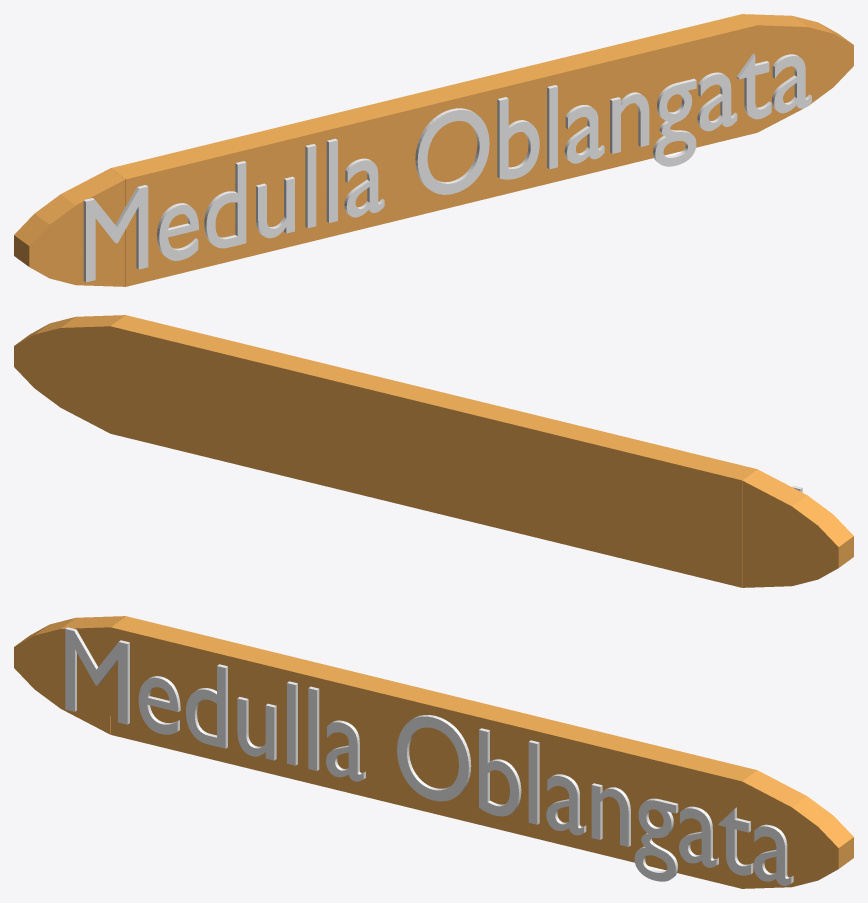
The model's file is txtMedulla.fbx.
3 views of the same model, one above another, from view 1: azimuth 30°, elevation 25°; view 2: azimuth 150°, elevation 25°; view 3: azimuth 330°, elevation 25° (orthographic).
Parts seen in each view (by area): view 1: TagContainer.032, Text.031; view 2: TagContainer.032; view 3: TagContainer.032, Text.031.
Part boxes in pixels (box(x1,y1,x2,y2)): TagContainer.032: box(14, 14, 853, 286); Text.031: box(83, 53, 811, 282); TagContainer.032: box(14, 315, 853, 587); TagContainer.032: box(14, 616, 853, 888); Text.031: box(65, 627, 793, 885).
Bounding box in the file's own units: 332 × 45.31 × 12.54.
